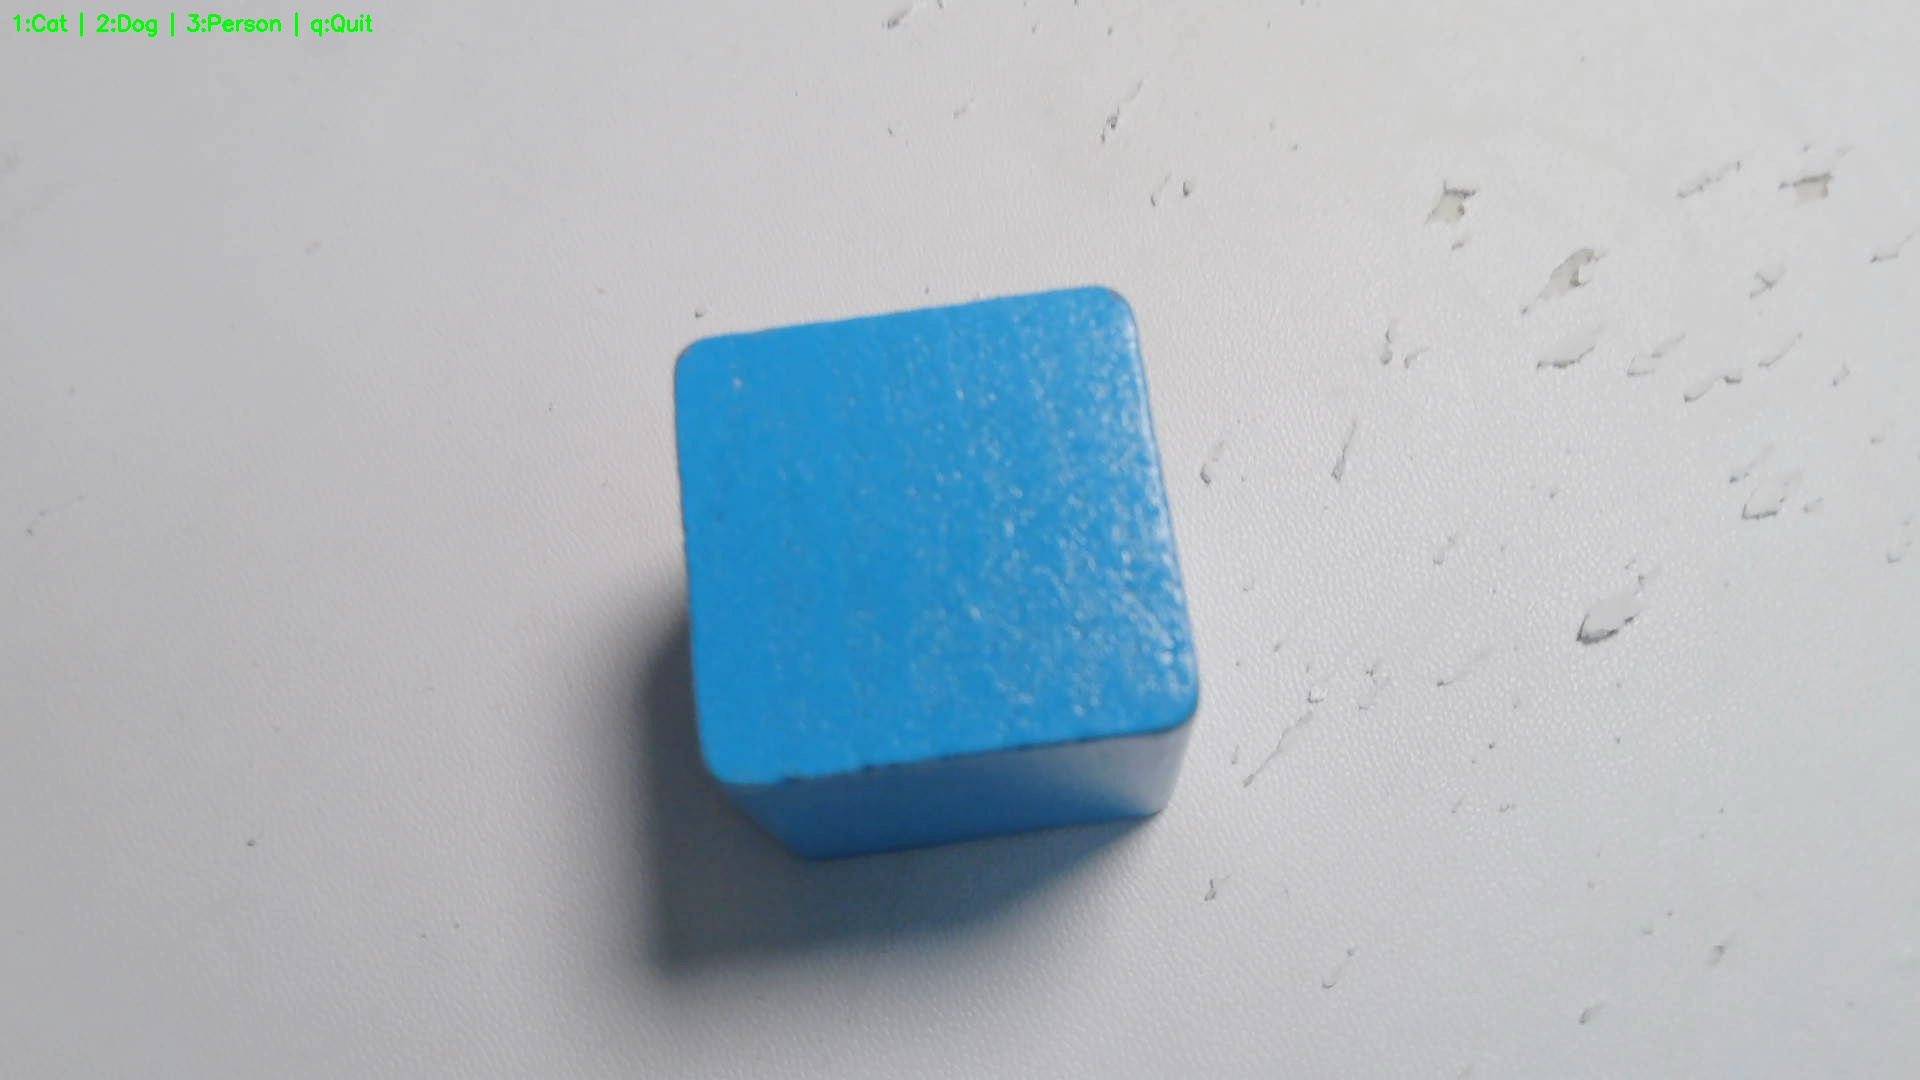blue: (667, 281, 1197, 868)
